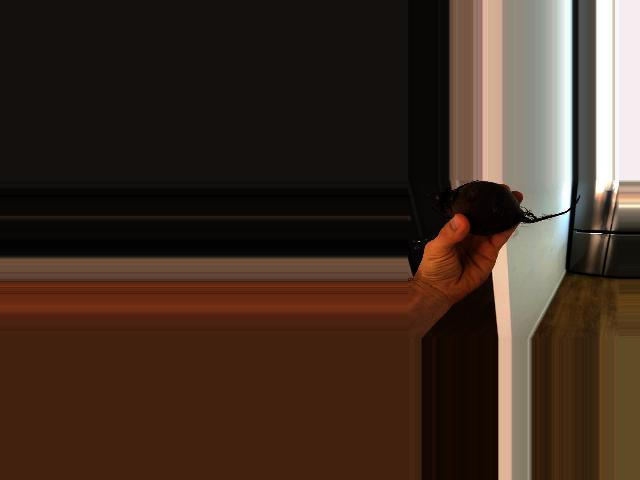beet: (431, 180, 580, 234)
